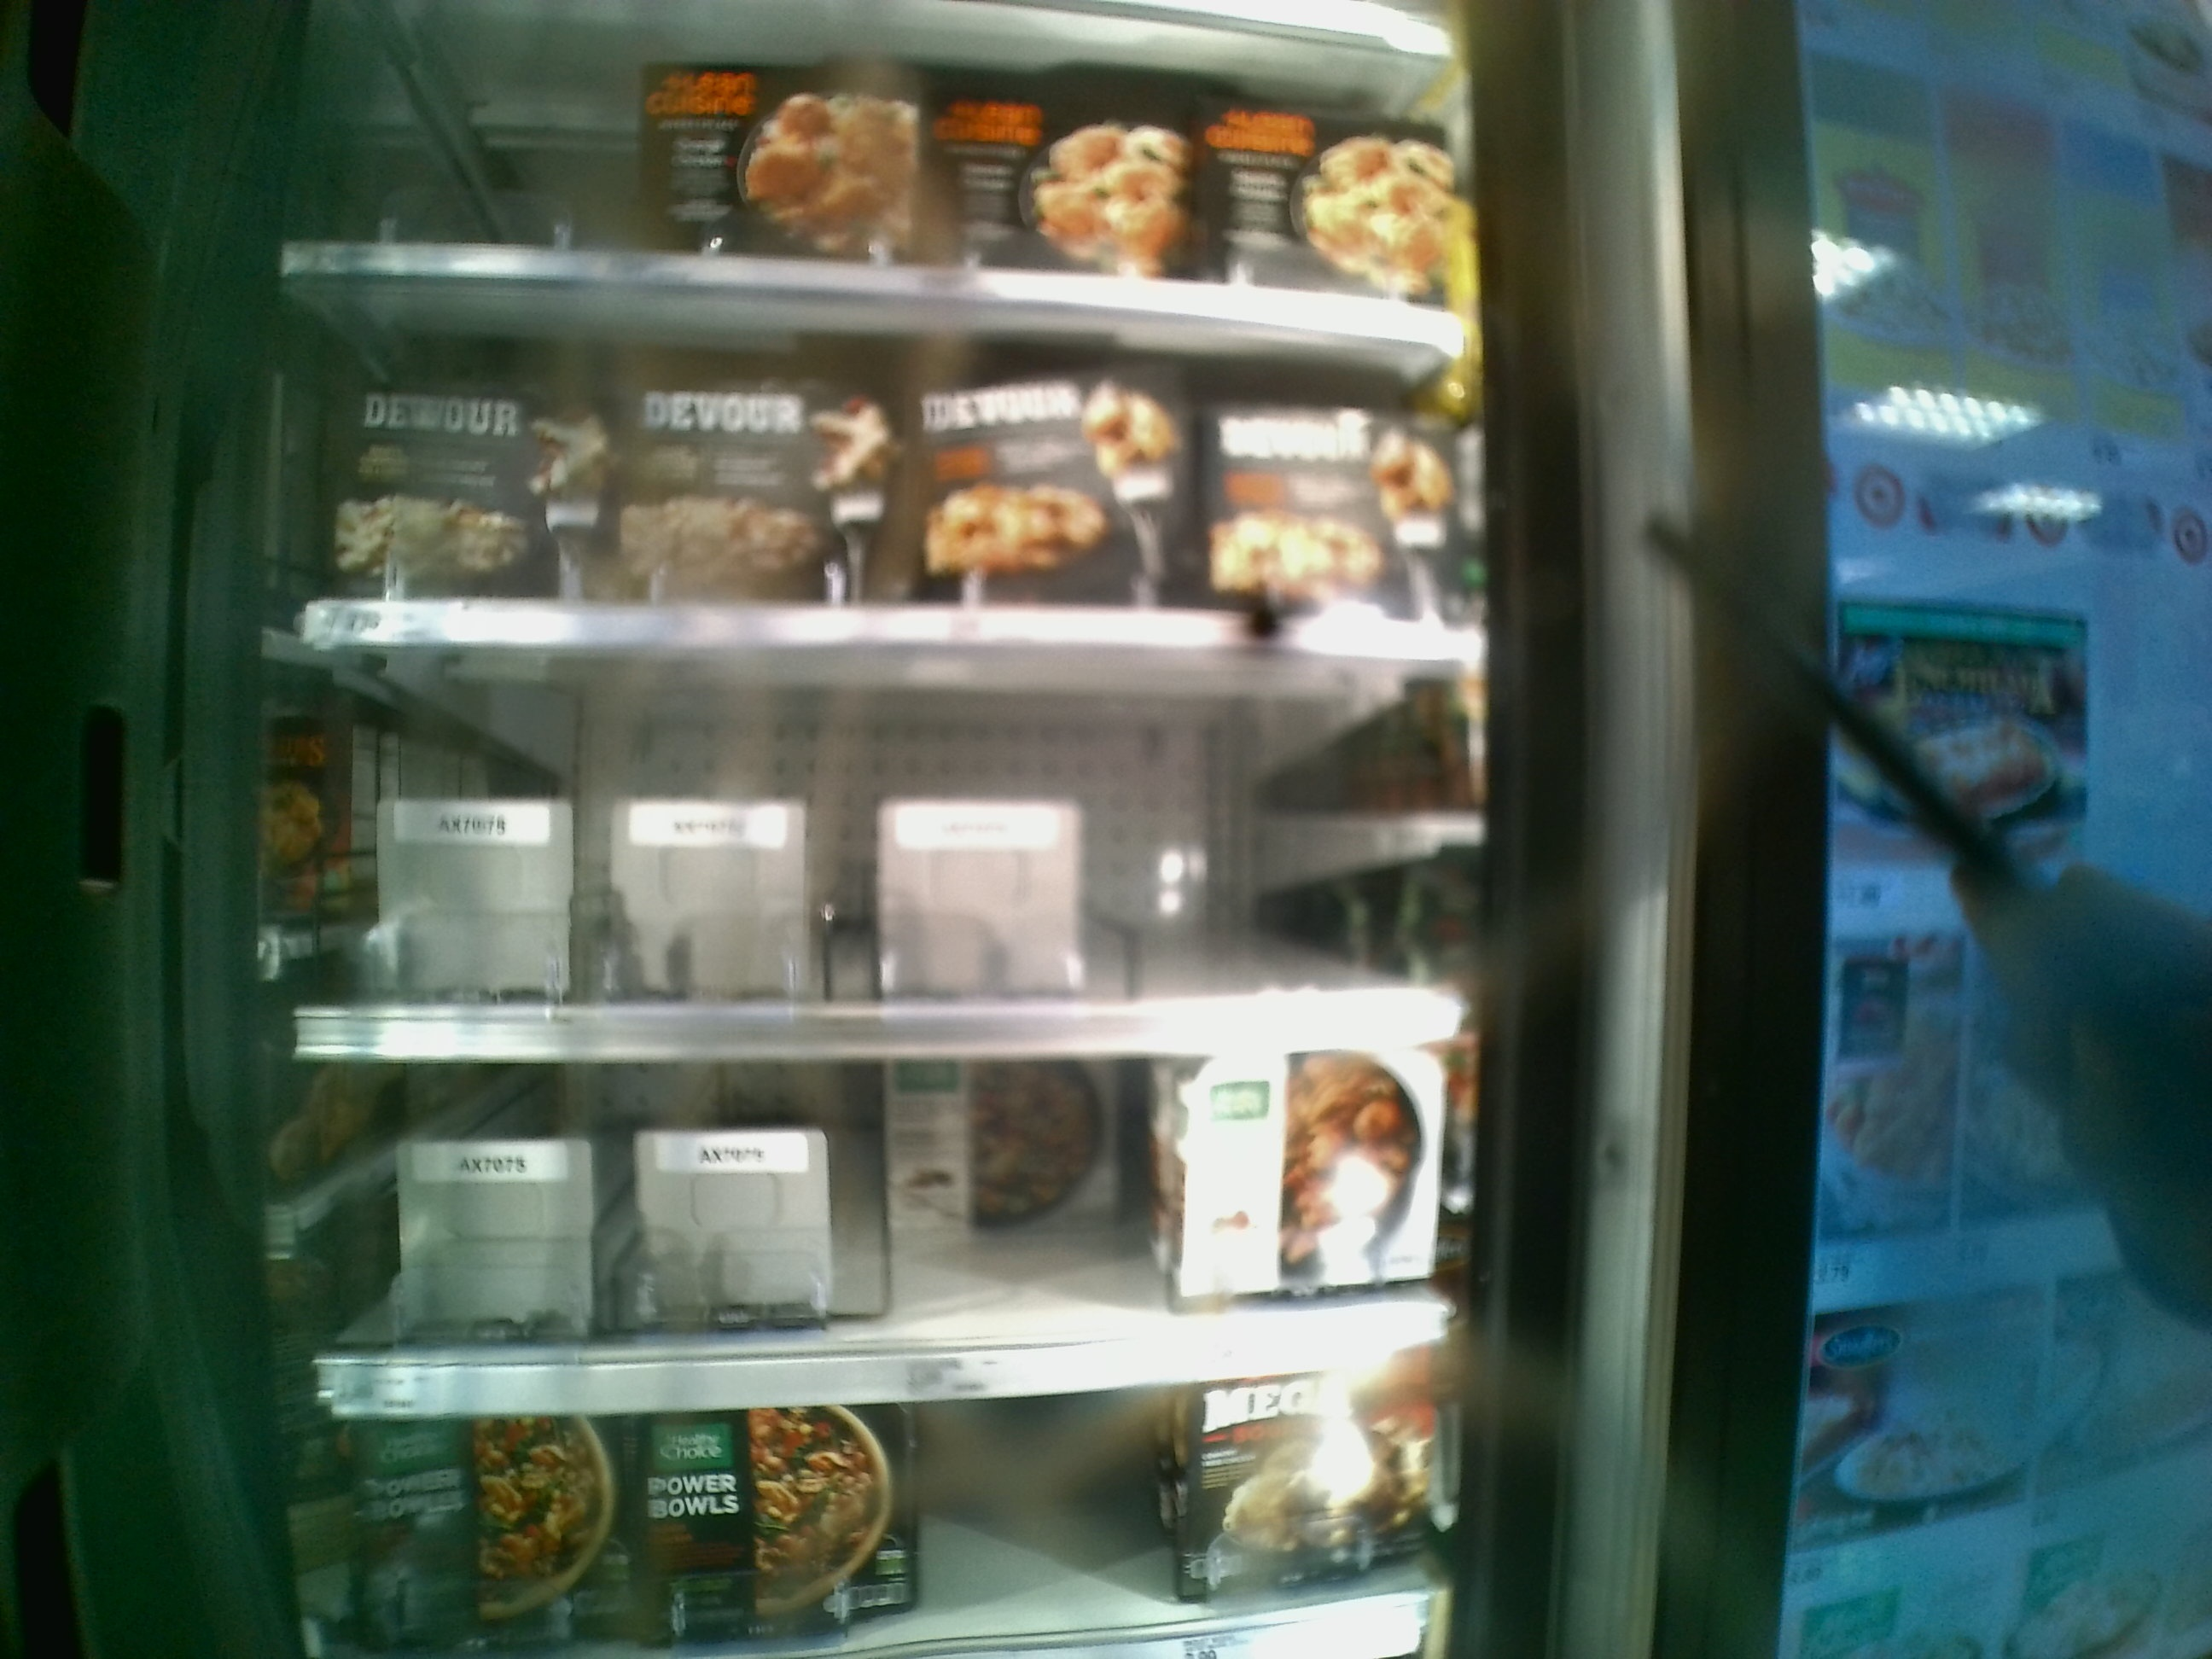shelf: (298, 638, 1465, 1063), (284, 272, 1479, 657), (294, 1054, 1479, 1412)
